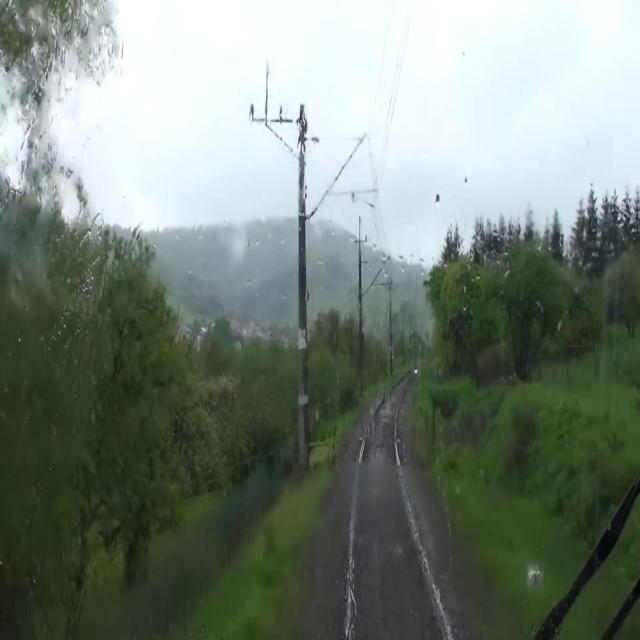rail-track: (351, 372, 448, 639)
